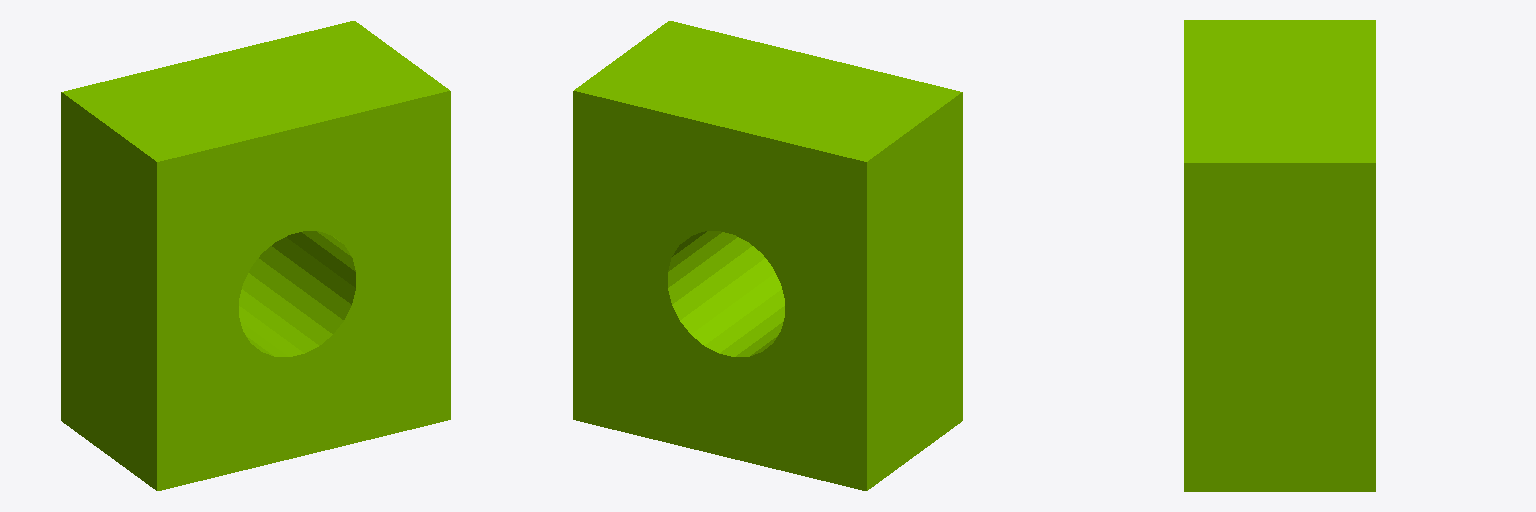
The robot description file, URDF, robot "cube.urdf":
<?xml version="0.0" ?>
<robot name="cube.urdf">
  <link name="baseLink">
    <contact>
      <lateral_friction value="2.0"/>
      <inertia_scaling value="3.0"/>
    </contact>
    <inertial>
      <origin rpy="0 0 0" xyz="0 0 0"/>
       <mass value=".05"/>
       <inertia ixx="1" ixy="0" ixz="0" iyy="1" iyz="0" izz="1"/>
    </inertial>
    <visual>
      <origin rpy="0 0 0" xyz="0 0 0"/>
      <geometry>
        <mesh filename="model.obj" scale=".05 .05 .05"/>
      </geometry>
       <material name="white">
        <color rgba="0.54 0.8 0 1"/>
      </material>
    </visual>
    <collision>
      <origin rpy="0 0 0" xyz="0 0 0"/>
      <geometry>
        <mesh filename="model.stl"/>
      </geometry>
    </collision>
  </link>
</robot>

--- What the picture shows (computed from the rendered views, not written in the file) ---
The picture shows the robot from 3 angles, left to right: view 1: azimuth 30°, elevation 25°; view 2: azimuth 150°, elevation 25°; view 3: azimuth 270°, elevation 25°; orthographic projection.
Robot: cube.urdf — 1 links, 0 joints (none); root link baseLink; default pose: every joint at zero.
Visible links, largest first — view 1: baseLink; view 2: baseLink; view 3: baseLink.
Boxes of the visible links, <box> form: baseLink: <box>61,21,450,490</box>; baseLink: <box>573,21,962,490</box>; baseLink: <box>1184,20,1375,491</box>.
Size in the robot's own frame: 0.0335 by 0.019 by 0.036 metres.
1 mesh visuals loaded from 1 distinct referenced files (1 OBJ).